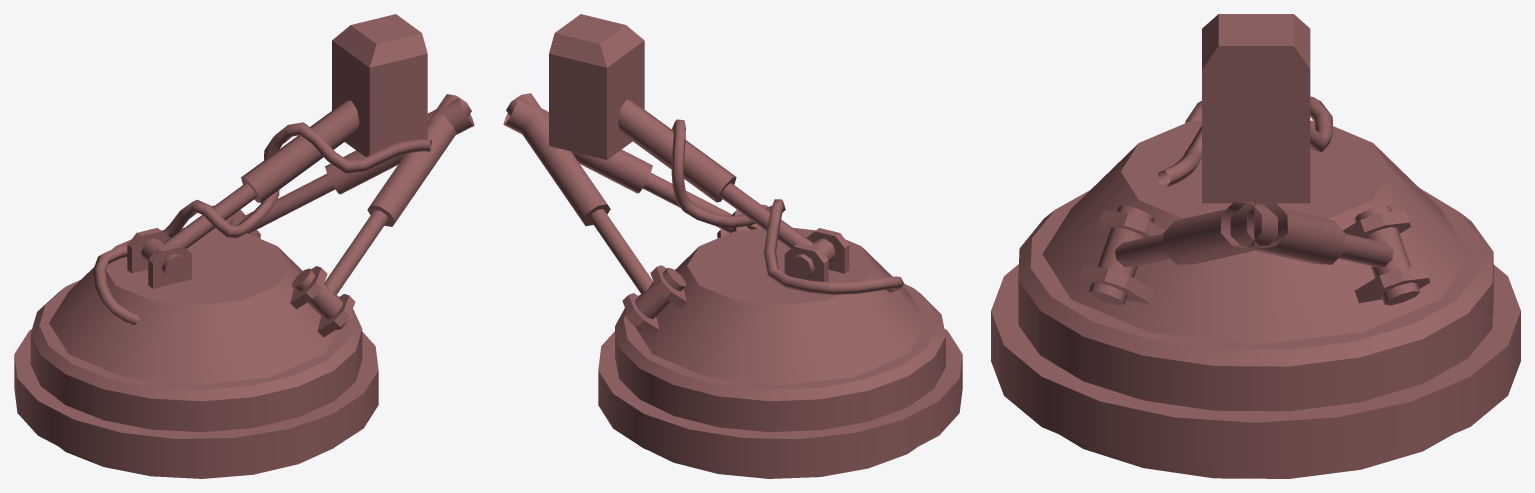
File: vert engine.FBX
3 views of the same model, side by side, from view 1: azimuth 30°, elevation 25°; view 2: azimuth 150°, elevation 25°; view 3: azimuth 270°, elevation 25° (orthographic). The views are drawn at different scales.
Visible parts, largest first — view 1: Box064; view 2: Box064; view 3: Box064.
Part boxes in pixels (bbox=[...]): Box064: bbox=[14, 14, 474, 478]; Box064: bbox=[503, 14, 962, 478]; Box064: bbox=[991, 14, 1520, 478].
Size of the model in its own units: 1.16 by 0.8553 by 0.8513.
